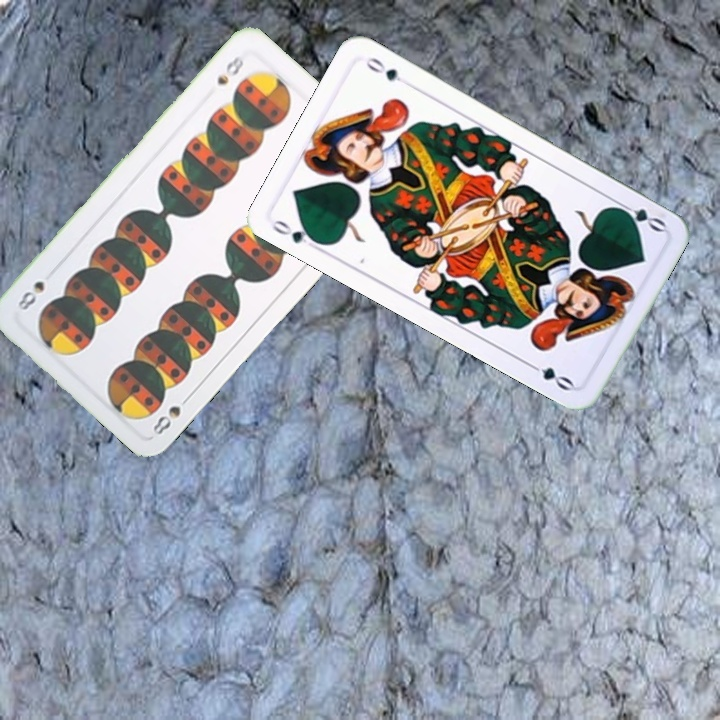GO: (268, 215, 325, 254), (610, 197, 668, 235)
S8: (149, 390, 195, 438), (212, 50, 247, 88)
